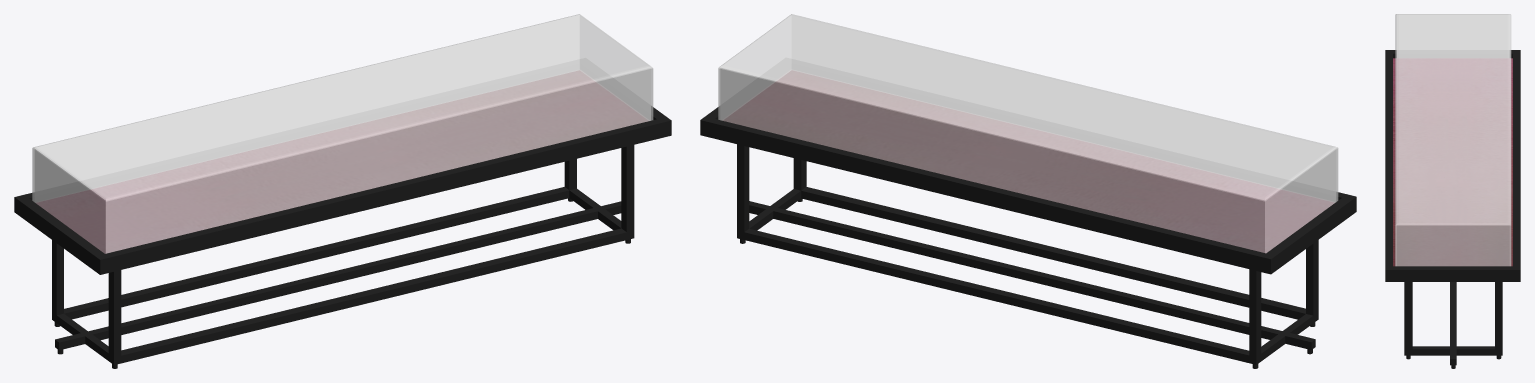
File: mostruario_longo.fbx
3 renders of one model, left to right at view 1: azimuth 30°, elevation 25°; view 2: azimuth 150°, elevation 25°; view 3: azimuth 270°, elevation 25°, orthographic. The views are drawn at different scales.
Parts seen in each view (by area): view 1: painel.004, cupula.004; view 2: painel.004, cupula.004; view 3: painel.004, cupula.004.
Part boxes in pixels (bbox=[...]): painel.004: bbox=[14, 70, 671, 368]; cupula.004: bbox=[32, 14, 653, 253]; painel.004: bbox=[700, 70, 1356, 368]; cupula.004: bbox=[718, 14, 1338, 253]; painel.004: bbox=[1385, 50, 1520, 368]; cupula.004: bbox=[1395, 14, 1511, 266].
Size of the model in its own units: 2311 by 688 by 601.
Materials: 3 (1 with a texture image).
